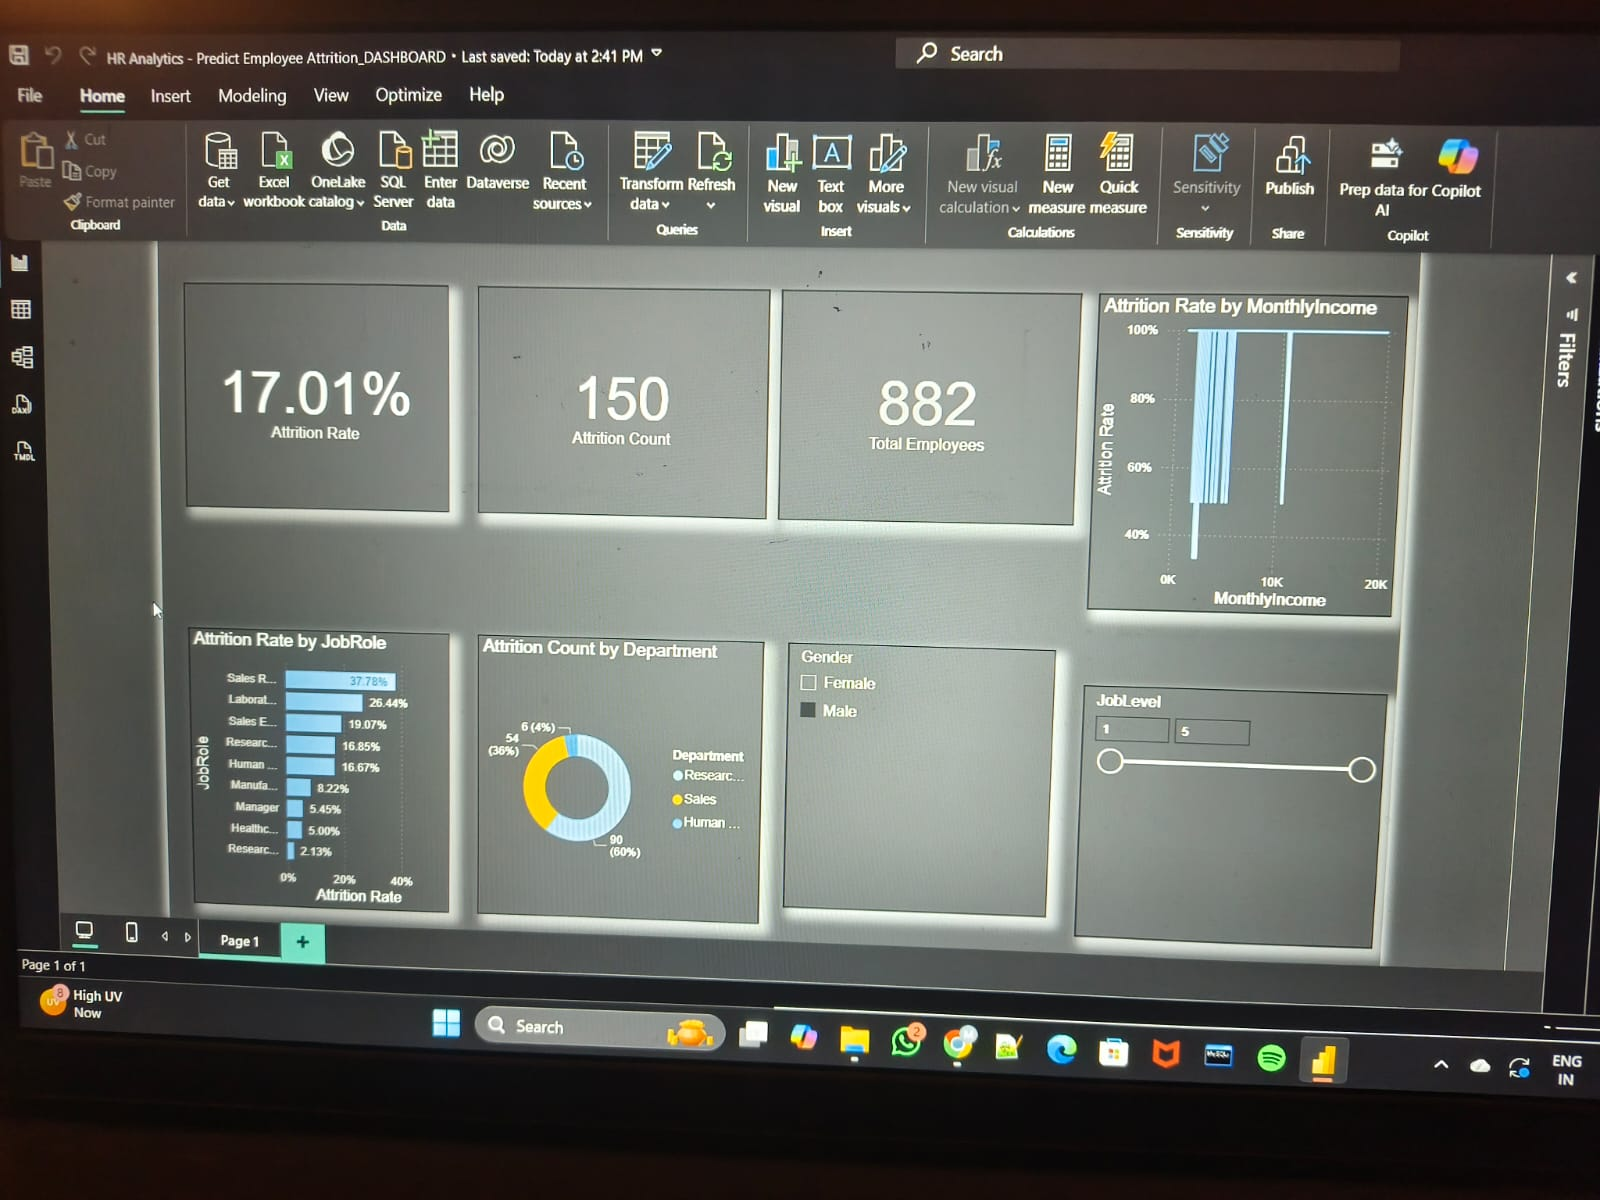

The dashboard page shown, as its layout file describes it:
{"tool":"powerbi","page":{"name":"Page 1","canvas":[1280,720],"ordinal":0},"visuals":[{"type":"card","fields":{"Values":["cleaned_hr_data.Attrition Rate"]},"box":[28.8,42.5,279.9,231.9],"z":0},{"type":"card","fields":{"Values":["cleaned_hr_data.Attrition Count"]},"box":[338.9,42.5,300.5,231.9],"z":1000},{"type":"card","fields":{"Values":["cleaned_hr_data.Total Employees"]},"box":[651.8,42.5,300.5,231.9],"z":2000},{"type":"barChart","fields":{"Category":["cleaned_hr_data.JobRole"],"Y":["cleaned_hr_data.Attrition Rate"]},"box":[28.8,402.1,279.9,299.1],"z":3000},{"type":"donutChart","fields":{"Category":["cleaned_hr_data.Department"],"Y":["cleaned_hr_data.Attrition Count"]},"box":[338.9,402.1,300.5,299.1],"z":4000},{"type":"lineChart","fields":{"Category":["cleaned_hr_data.MonthlyIncome"],"Y":["cleaned_hr_data.Attrition Rate"]},"box":[968.8,42.5,300.5,317],"z":5000},{"type":"slicer","fields":{"Values":["cleaned_hr_data.Gender"]},"box":[665.5,402.1,274.4,279.9],"z":6000},{"type":"slicer","fields":{"Values":["cleaned_hr_data.JobLevel"]},"box":[968.8,437.7,301.9,263.5],"z":7000}]}

Visuals, with their boxes on the page's 1280x720 design canvas (x1, y1, x2, y2). These are canvas units, not pixel positions in the 1600x1200 screenshot, which may show the page scaled, cropped or inside an application window:
card - cleaned_hr_data.Attrition Rate: [left=29, top=42, right=309, bottom=274]
card - cleaned_hr_data.Attrition Count: [left=339, top=42, right=639, bottom=274]
card - cleaned_hr_data.Total Employees: [left=652, top=42, right=952, bottom=274]
barChart - cleaned_hr_data.JobRole x cleaned_hr_data.Attrition Rate: [left=29, top=402, right=309, bottom=701]
donutChart - cleaned_hr_data.Department x cleaned_hr_data.Attrition Count: [left=339, top=402, right=639, bottom=701]
lineChart - cleaned_hr_data.MonthlyIncome x cleaned_hr_data.Attrition Rate: [left=969, top=42, right=1269, bottom=360]
slicer - cleaned_hr_data.Gender: [left=666, top=402, right=940, bottom=682]
slicer - cleaned_hr_data.JobLevel: [left=969, top=438, right=1271, bottom=701]
